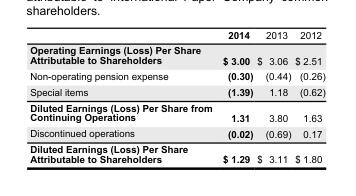table: (29, 29, 324, 164)
table column: (29, 29, 216, 164), (216, 29, 254, 164), (254, 29, 292, 164), (292, 29, 324, 164)
table column header: (29, 29, 324, 42)
table row: (29, 99, 324, 125), (29, 42, 324, 67), (29, 141, 324, 164), (29, 67, 324, 83), (29, 83, 324, 99), (29, 125, 324, 141), (29, 29, 324, 42)
